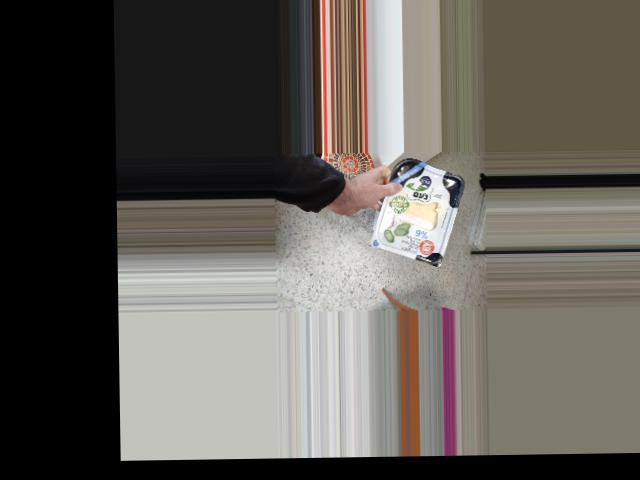cheese: (384, 167, 452, 254)
